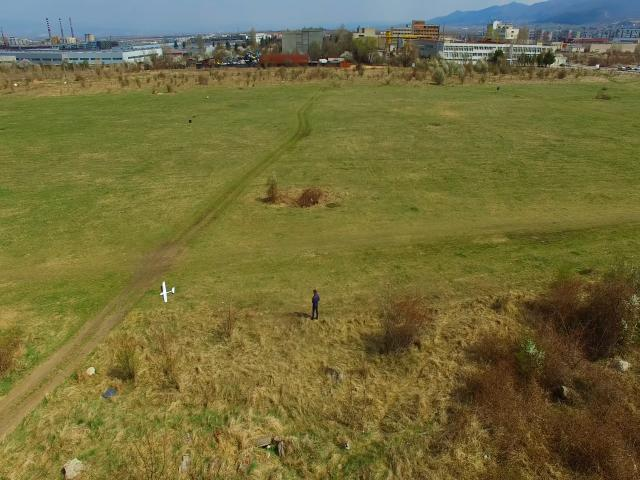plane: (160, 281, 174, 303)
